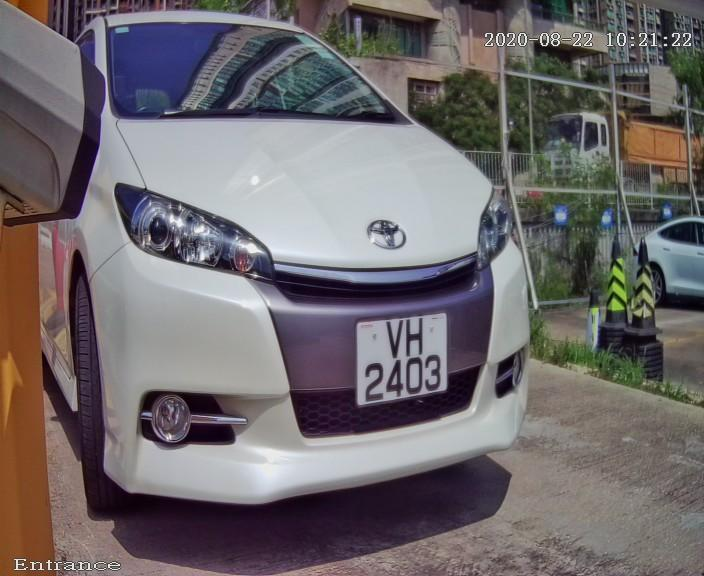License Plate: (353, 296, 456, 420)
